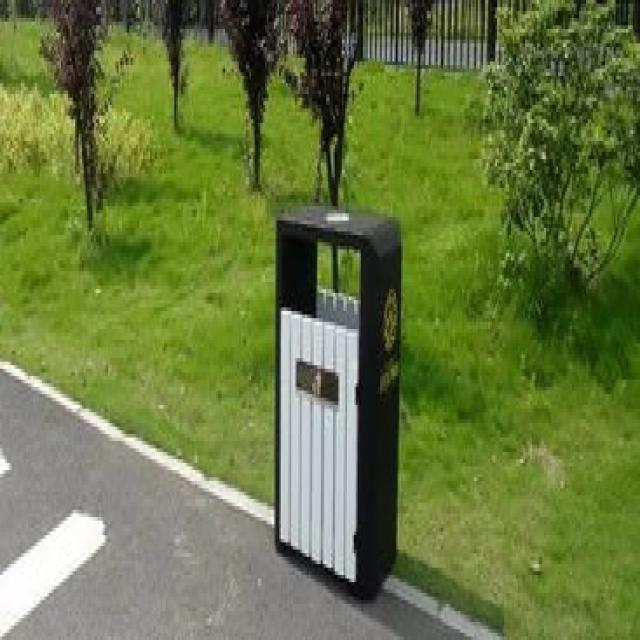garbage_bin: (270, 203, 400, 600)
